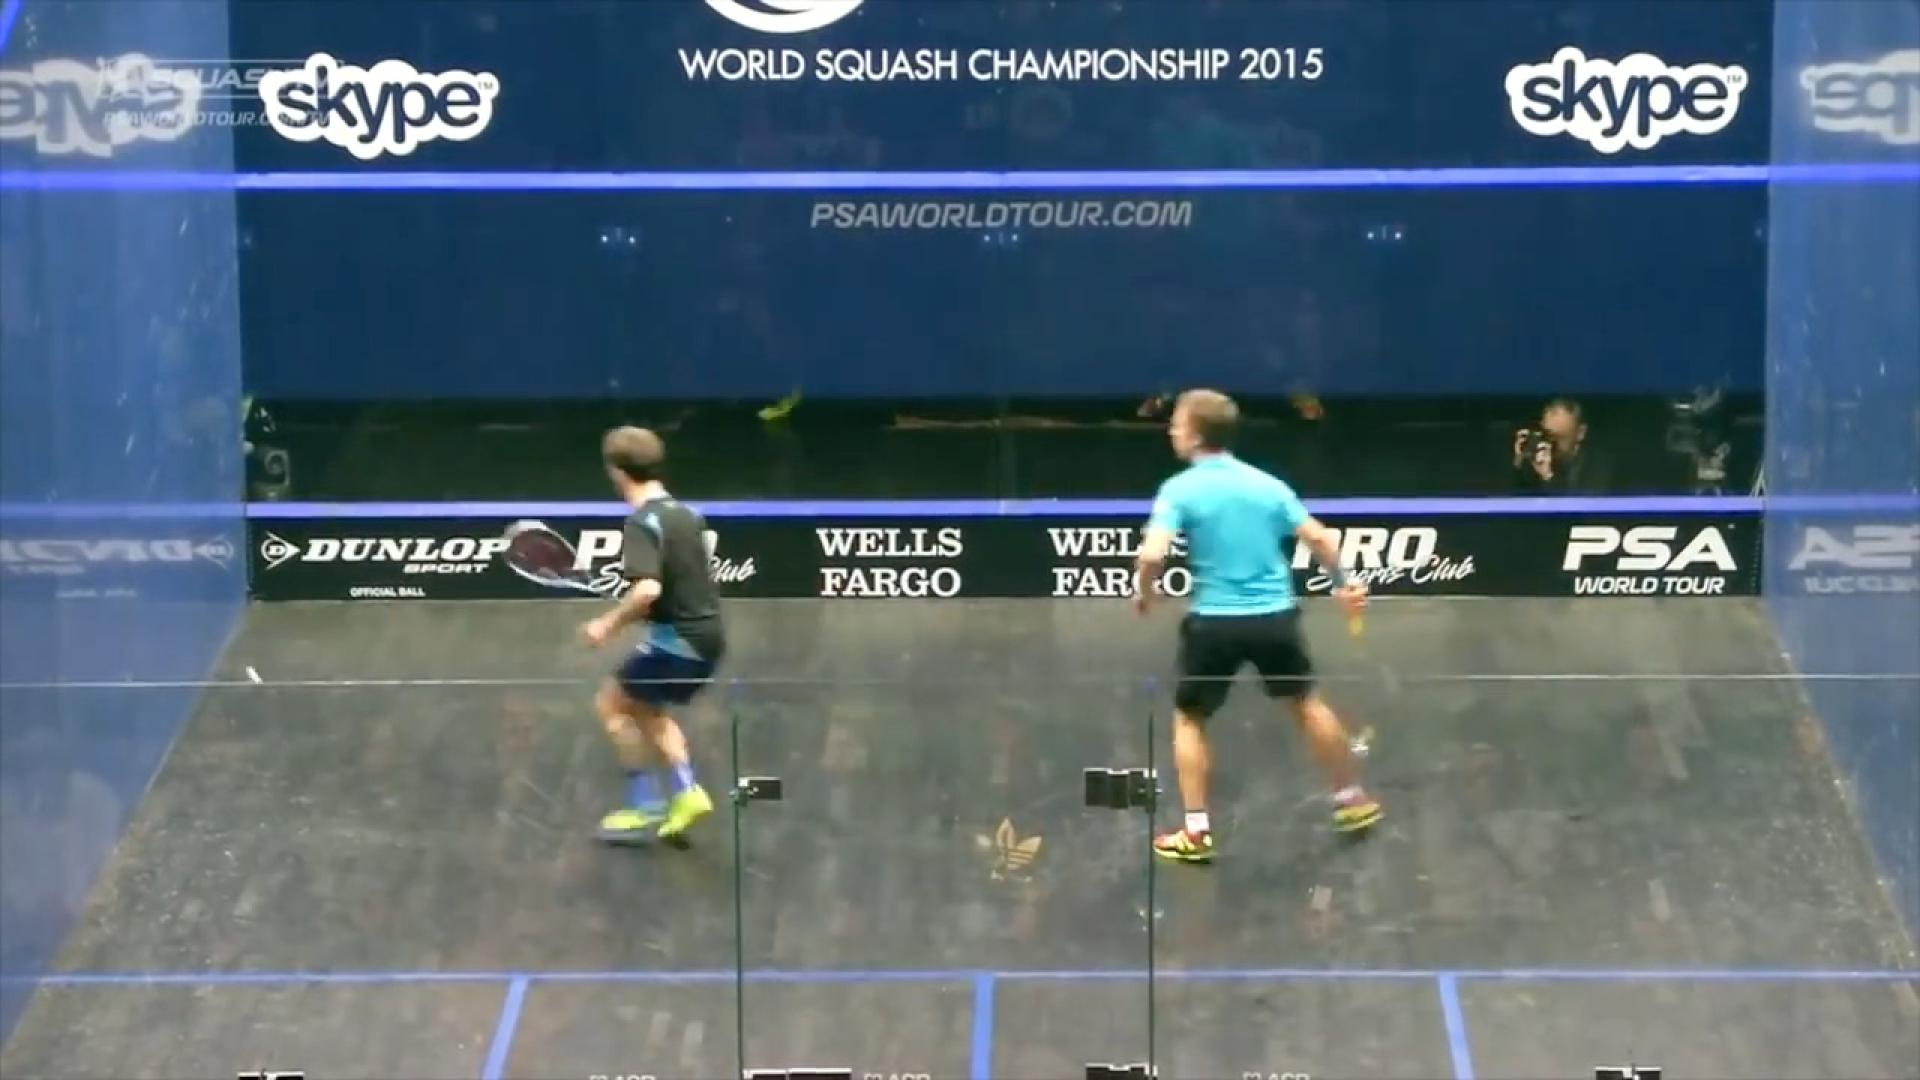Squash-Ball: (223, 650, 277, 700)
